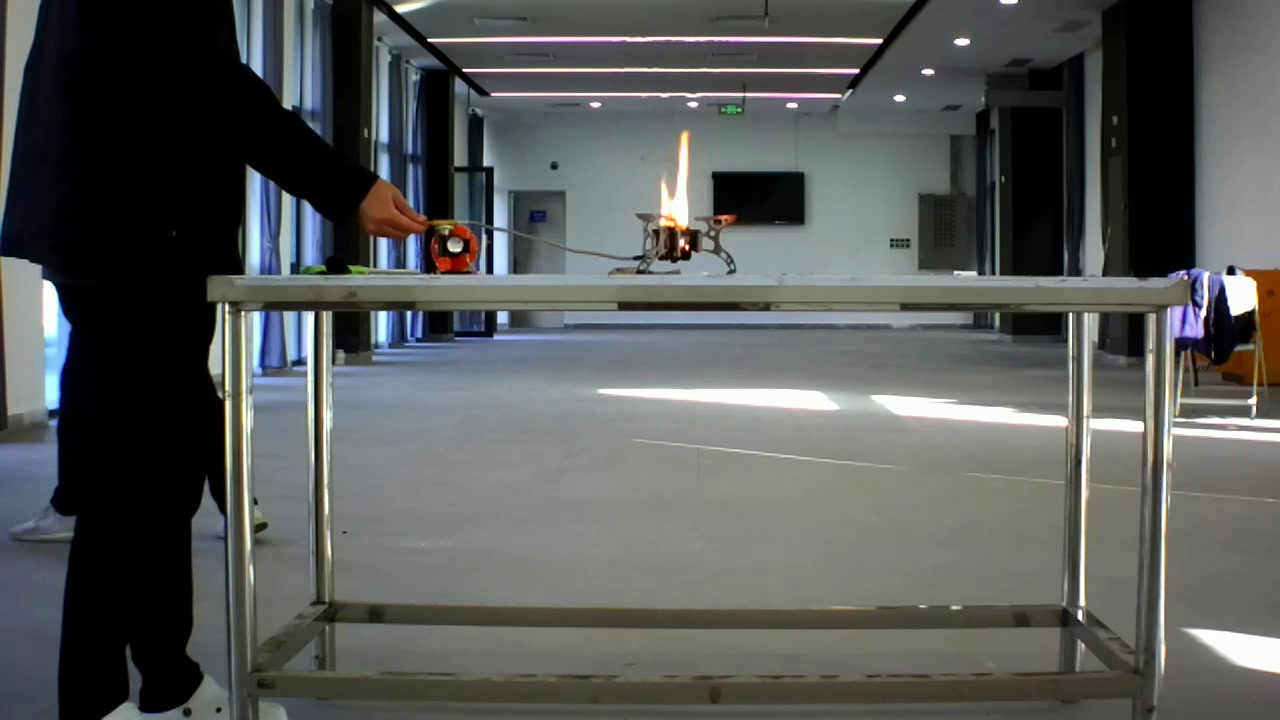Fire: (636, 112, 728, 252)
